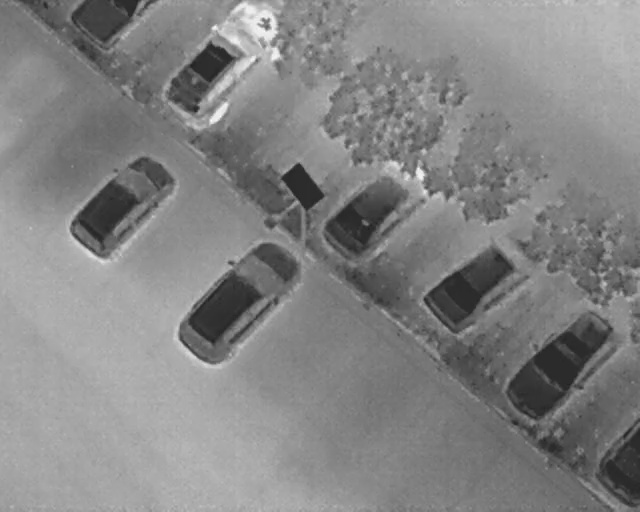Car: (161, 222, 314, 381), (416, 204, 566, 344), (311, 137, 449, 273), (497, 292, 632, 431), (56, 137, 186, 272), (159, 0, 283, 128), (66, 0, 158, 51)
